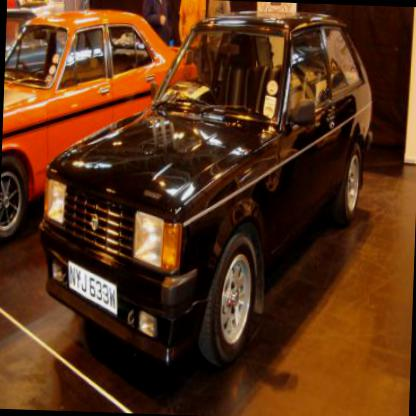car: (31, 0, 377, 380), (0, 4, 203, 243), (4, 8, 68, 86)
